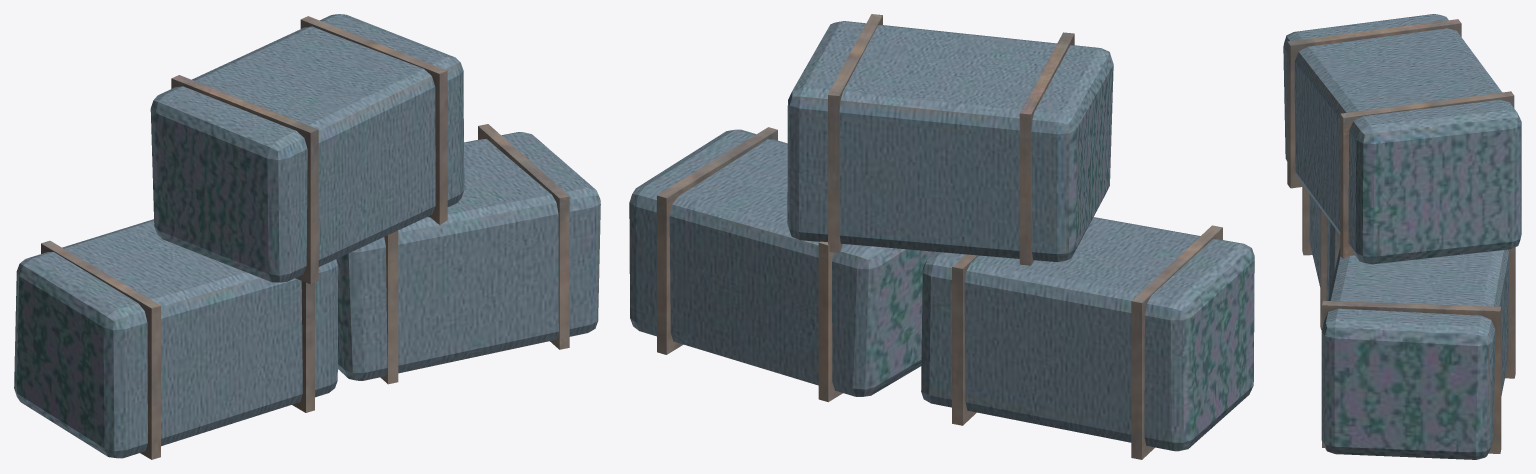
Rendered from haybales.glb.
3 renders of one model, left to right at view 1: azimuth 30°, elevation 25°; view 2: azimuth 150°, elevation 25°; view 3: azimuth 270°, elevation 25°, orthographic. The views are drawn at different scales.
Parts seen in each view (by area): view 1: haybales; view 2: haybales; view 3: haybales.
Part boxes in pixels (box(x1,y1,x2,y2)): haybales: box(14, 14, 600, 459); haybales: box(629, 14, 1254, 459); haybales: box(1283, 14, 1521, 459).
Size of the model in its own units: 1.61 by 0.86 by 0.6656.
1 material, 1 textured.
